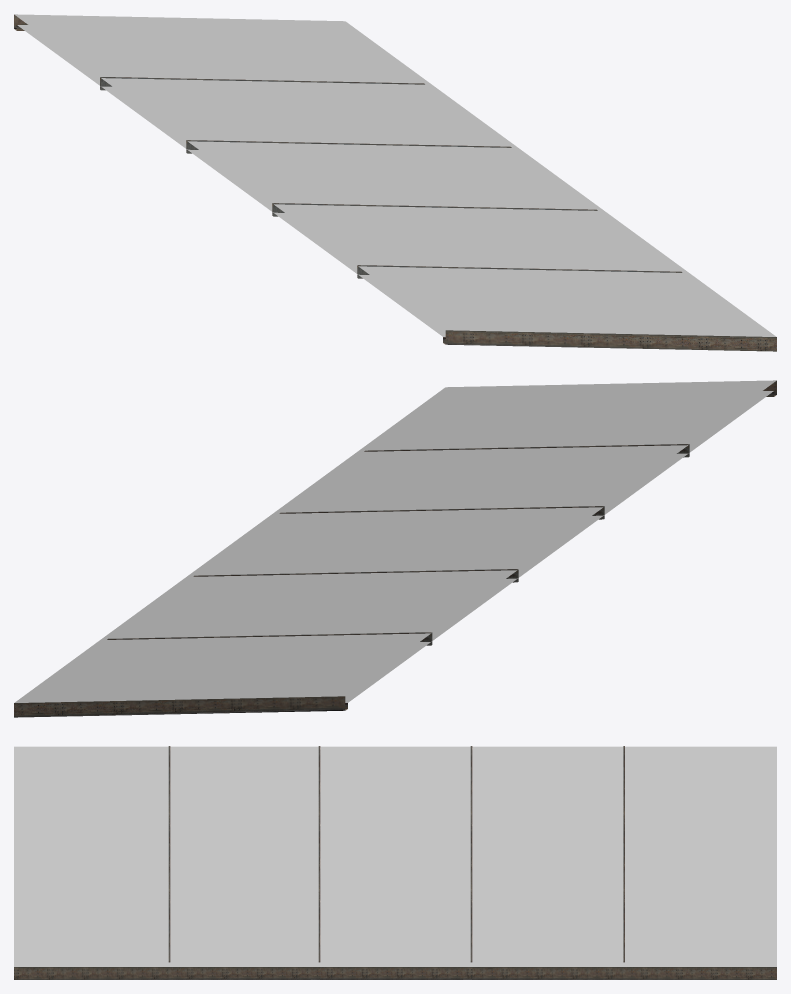
Rendered from AwningB.FBX.
3 views of the same model, one above another, from view 1: azimuth 30°, elevation 25°; view 2: azimuth 150°, elevation 25°; view 3: azimuth 270°, elevation 25° (orthographic). The views are drawn at different scales.
Parts seen in each view (by area): view 1: AwningB; view 2: AwningB; view 3: AwningB.
Boxes of the visible parts, x1=… form: AwningB: x1=14, y1=14, x2=776, y2=351; AwningB: x1=14, y1=380, x2=776, y2=717; AwningB: x1=14, y1=746, x2=776, y2=979.
Size of the model in its own units: 600 by 178 by 1353.
